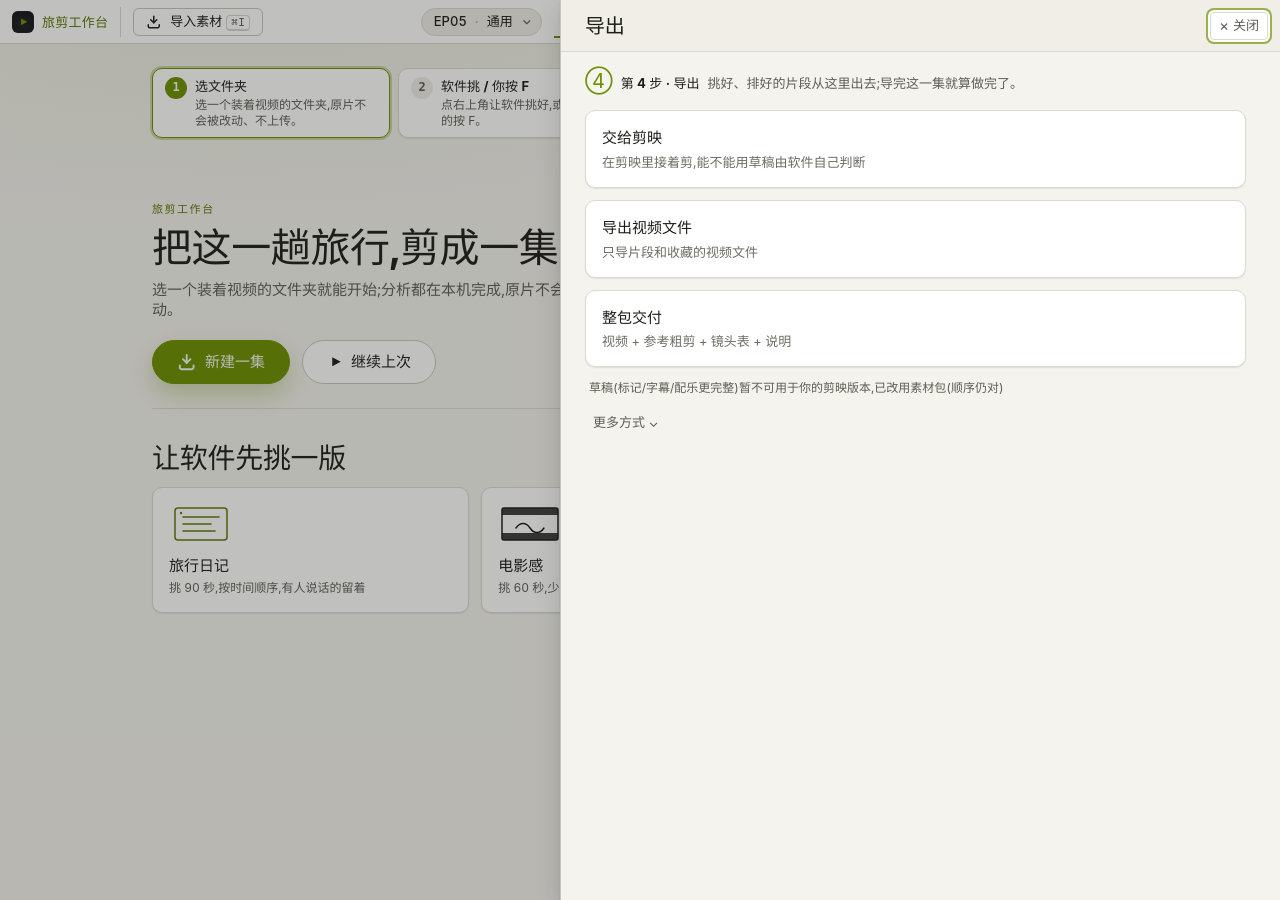
Scenario: 交付抽屉首屏三卡(U-06/P-04) › 未核对版本机器上点「交给剪映」一次直接落素材包 + toast「顺序 = 编号」,无需再选
Click the button "交给剪映 在剪映里接着剪,能不能用草稿由软件自己判断".
click(632, 138)  # box [585,110,1246,188]
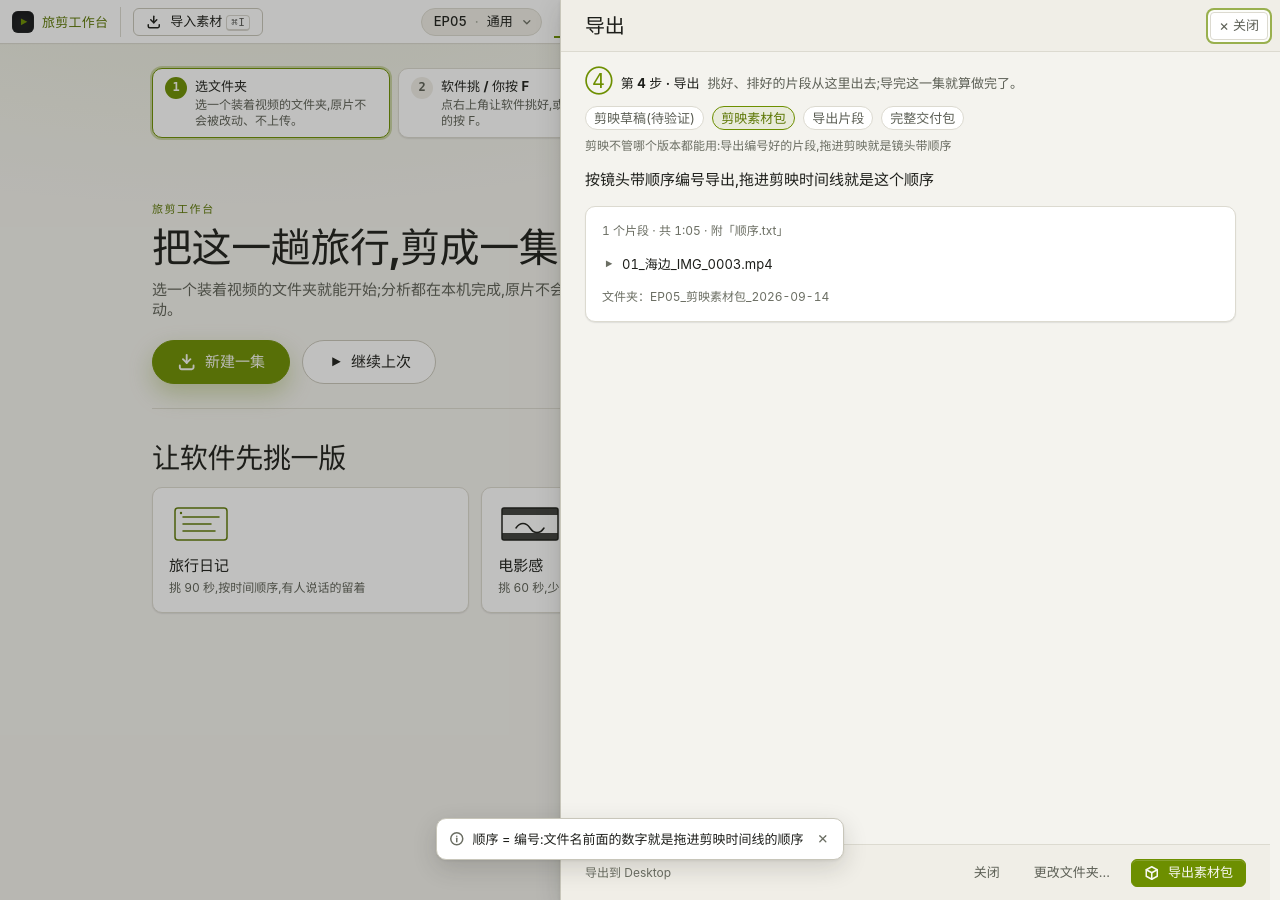
Result: the list named "将导出的文件" is shown at [602,256,773,272]
Result: the text "顺序 = 编号:文件名前面的数字就是拖进剪映时间线的顺序" is shown at [472,830,803,848]
